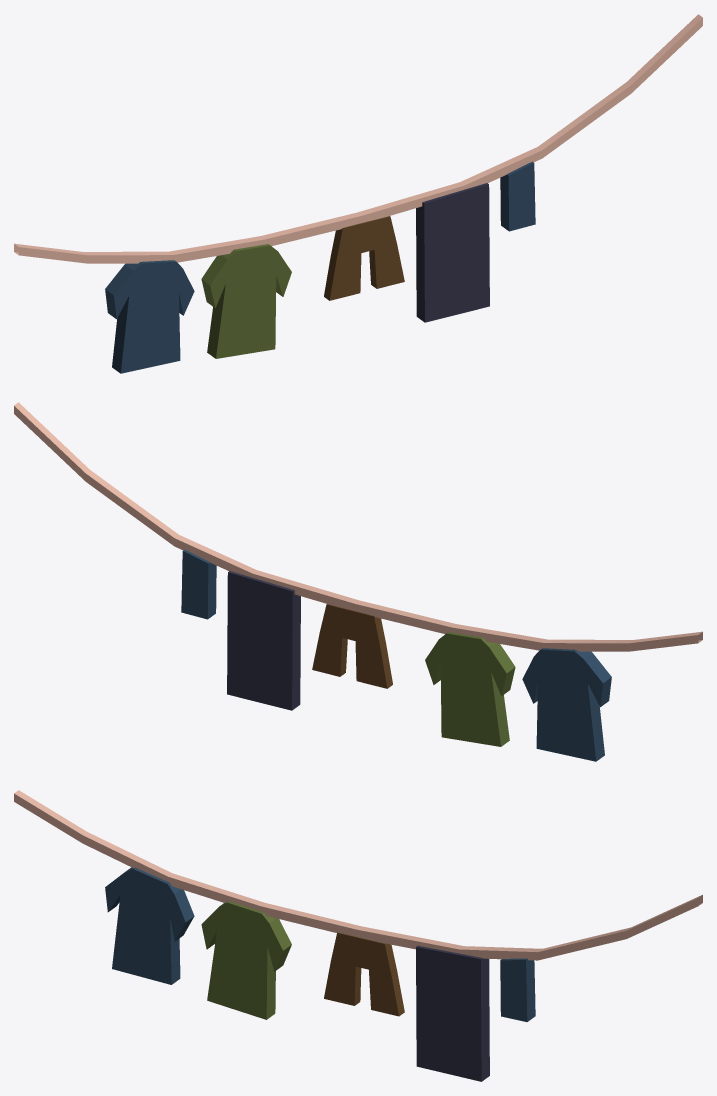
File: washing.fbx
3 renders of one model, top to bottom at view 1: azimuth 30°, elevation 25°; view 2: azimuth 150°, elevation 25°; view 3: azimuth 330°, elevation 25°, orthographic.
Visible parts, largest first — view 1: pCube1, pCube4, pasted__pCube2, pCube2, pCube3, pasted__pCube4; view 2: pCube1, pCube4, pasted__pCube2, pCube2, pCube3, pasted__pCube4; view 3: pCube4, pCube1, pCube2, pasted__pCube2, pCube3, pasted__pCube4.
Part boxes in pixels (bbox=[...]): pCube1: bbox=[14, 14, 702, 263]; pCube4: bbox=[416, 183, 489, 322]; pasted__pCube2: bbox=[105, 260, 194, 373]; pCube2: bbox=[201, 244, 291, 358]; pCube3: bbox=[324, 216, 404, 300]; pasted__pCube4: bbox=[500, 161, 535, 231]; pCube1: bbox=[14, 402, 702, 651]; pCube4: bbox=[227, 571, 300, 710]; pasted__pCube2: bbox=[522, 648, 611, 761]; pCube2: bbox=[425, 632, 515, 746]; pCube3: bbox=[312, 604, 392, 688]; pasted__pCube4: bbox=[181, 549, 216, 619]; pCube4: bbox=[416, 945, 489, 1081]; pCube1: bbox=[14, 790, 702, 960]; pCube2: bbox=[201, 901, 291, 1019]; pasted__pCube2: bbox=[105, 867, 194, 984]; pCube3: bbox=[324, 932, 404, 1016]; pasted__pCube4: bbox=[500, 958, 535, 1021].
Bounding box in the file's own units: 26.79 × 8.81 × 0.5983.
